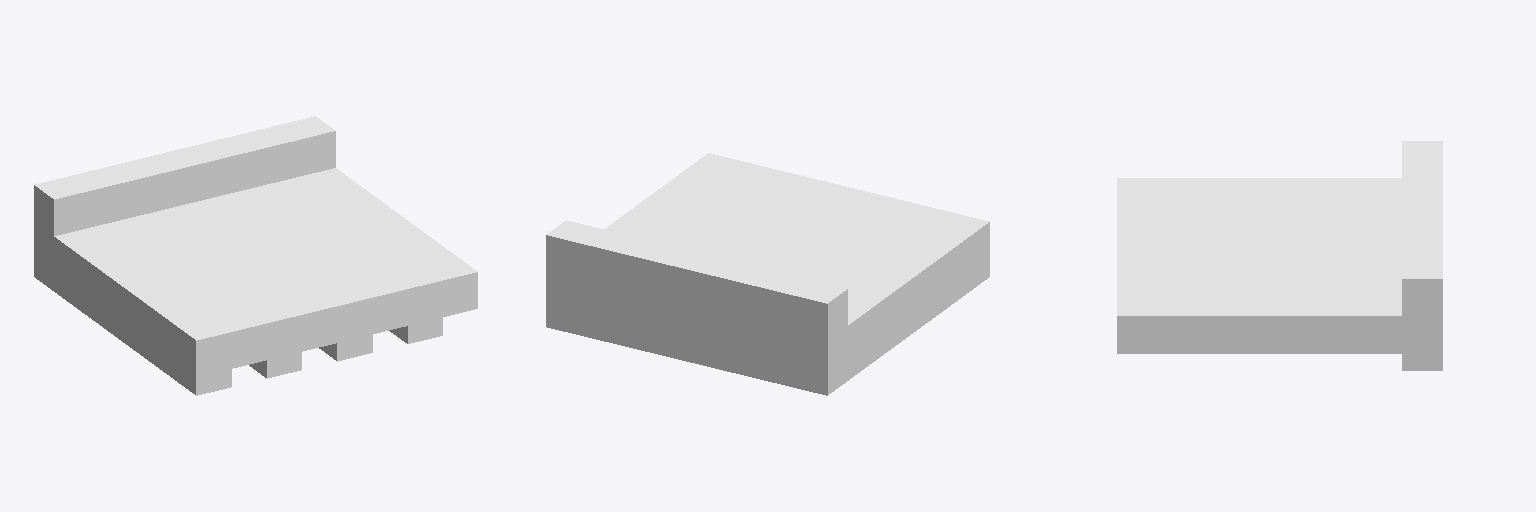
The model's file is CeilingBitsEdge4.obj.
3 views of the same model, side by side, from view 1: azimuth 30°, elevation 25°; view 2: azimuth 150°, elevation 25°; view 3: azimuth 270°, elevation 25° (orthographic).
Visible parts, largest first — view 1: object 1; view 2: object 1; view 3: object 1.
Part boxes in pixels (x1,y1,x2,y2): object 1: (34,116,477,395); object 1: (546,153,989,395); object 1: (1117,141,1442,370).
Bounding box in the file's own units: 1.6 × 0.5 × 1.6.